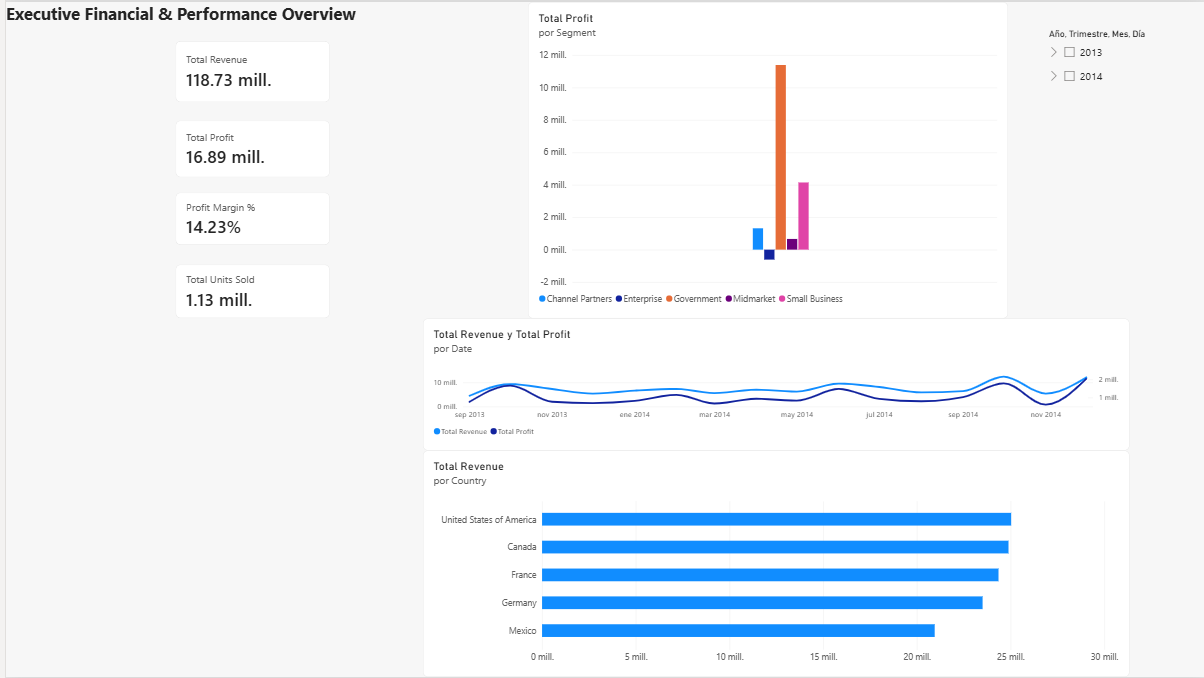

This screenshot's page, from the dashboard's own definition file:
{"tool":"powerbi","page":{"name":"Página 1","canvas":[1920,1080],"ordinal":0},"visuals":[{"type":"textbox","box":[0,0,807.1,281],"z":0},{"type":"cardVisual","fields":{"Data":["financials.Total Revenue"]},"box":[271.4,62.5,247.4,98.5],"z":1},{"type":"cardVisual","fields":{"Data":["financials.Total Profit"]},"box":[271.4,189.8,247.4,91.3],"z":2},{"type":"cardVisual","fields":{"Data":["financials.Profit Margin %"]},"box":[271.4,305.1,247.4,84.1],"z":3},{"type":"cardVisual","fields":{"Data":["financials.Total Units Sold"]},"box":[271.4,420.4,247.4,86.5],"z":4},{"type":"lineChart","fields":{"Category":["financials.Date"],"Y":["financials.Total Revenue"],"Y2":["financials.Total Profit"]},"box":[667.8,506.8,1131.4,211.4],"z":5},{"type":"clusteredBarChart","fields":{"Category":["financials.Country"],"Y":["financials.Total Revenue"]},"box":[667.8,718.2,1131.4,362.7],"z":6},{"type":"clusteredColumnChart","fields":{"Series":["financials.Segment"],"Y":["financials.Total Profit"]},"box":[835.9,0,768.6,506.8],"z":7},{"type":"slicer","fields":{"Values":["financials.Date.Variación.Jerarquía de fechas.Año","financials.Date.Variación.Jerarquía de fechas.Trimestre","financials.Date.Variación.Jerarquía de fechas.Mes","financials.Date.Variación.Jerarquía de fechas.Día"]},"box":[1662.2,43.2,209,98.5],"z":8}]}

Visuals, with their boxes in screenshot pixels (x1, y1, x2, y2), scaled from the page's 1920x1080 canvas onto the 1204x678 screenshot:
textbox: {"left": 0, "top": 0, "right": 506, "bottom": 176}
cardVisual - financials.Total Revenue: {"left": 170, "top": 39, "right": 325, "bottom": 101}
cardVisual - financials.Total Profit: {"left": 170, "top": 119, "right": 325, "bottom": 176}
cardVisual - financials.Profit Margin %: {"left": 170, "top": 192, "right": 325, "bottom": 244}
cardVisual - financials.Total Units Sold: {"left": 170, "top": 264, "right": 325, "bottom": 318}
lineChart - financials.Date x financials.Total Revenue: {"left": 419, "top": 318, "right": 1128, "bottom": 451}
clusteredBarChart - financials.Country x financials.Total Revenue: {"left": 419, "top": 451, "right": 1128, "bottom": 677}
clusteredColumnChart - financials.Segment x financials.Total Profit: {"left": 524, "top": 0, "right": 1006, "bottom": 318}
slicer - financials.Date.Variación.Jerarquía de fechas.Año x financials.Date.Variación.Jerarquía de fechas.Trimestre: {"left": 1042, "top": 27, "right": 1173, "bottom": 89}
